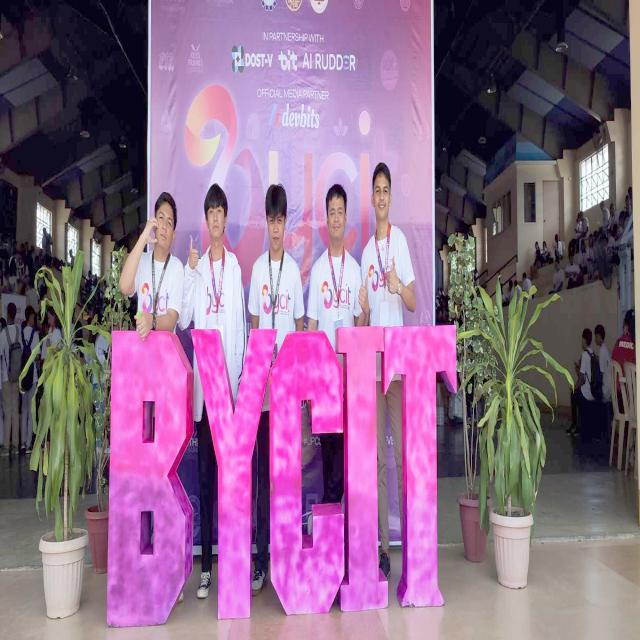other_gesture: (141, 217, 161, 247)
